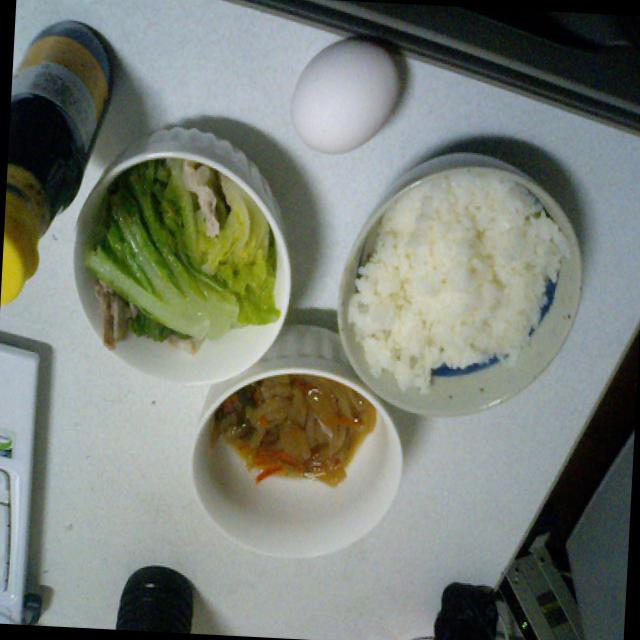Rice: (361, 160, 571, 404)
